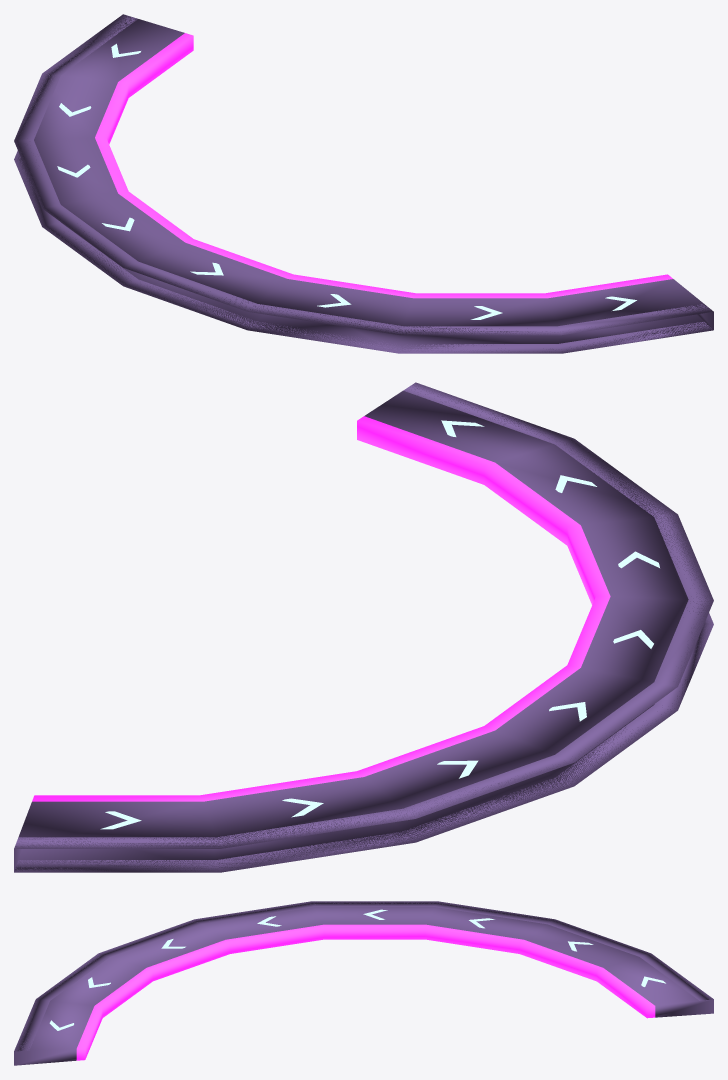
The model's file is Plataforma1.fbx.
The picture shows the model from 3 angles, top to bottom: view 1: azimuth 30°, elevation 25°; view 2: azimuth 150°, elevation 25°; view 3: azimuth 270°, elevation 25°; orthographic projection. The views are drawn at different scales.
Visible parts, largest first — view 1: PlataformaCircular1; view 2: PlataformaCircular1; view 3: PlataformaCircular1.
Part boxes in pixels (x1,y1,x2,y2): PlataformaCircular1: (14,14,713,353); PlataformaCircular1: (14,382,713,872); PlataformaCircular1: (14,901,713,1065).
Bounding box in the file's own units: 175 × 9.33 × 345.
